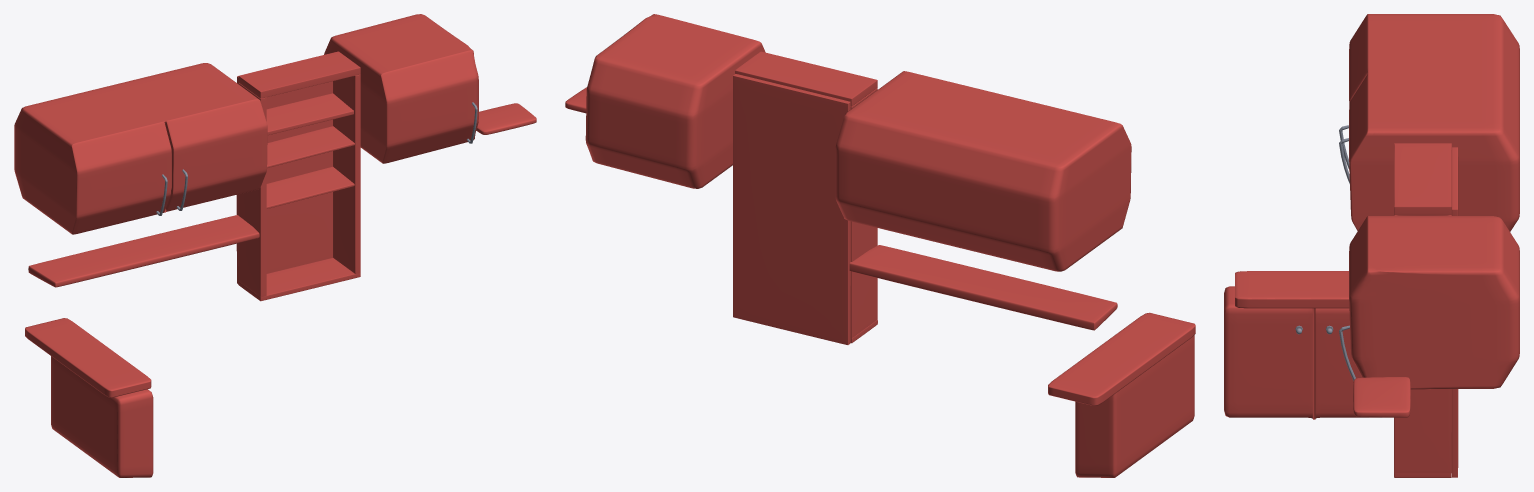
File: Shelves.fbx
3 views of the same model, side by side, from view 1: azimuth 30°, elevation 25°; view 2: azimuth 150°, elevation 25°; view 3: azimuth 270°, elevation 25° (orthographic). The views are drawn at different scales.
Visible parts, largest first — view 1: mebel_3, shelf_box, mebel_5, mebel_1, shelf_2, shelf; view 2: mebel_3, shelf_box, mebel_5, mebel_1, shelf_2; view 3: mebel_3, mebel_5, mebel_1, shelf_box, shelf.
Part boxes in pixels (box(x1,y1,x2,y2)): mebel_3: box(14, 63, 267, 234); shelf_box: box(236, 51, 360, 301); mebel_5: box(324, 14, 478, 163); mebel_1: box(25, 318, 153, 477); shelf_2: box(28, 215, 259, 287); shelf: box(476, 103, 536, 134); mebel_3: box(835, 71, 1131, 271); shelf_box: box(733, 51, 877, 344); mebel_5: box(585, 14, 765, 188); mebel_1: box(1048, 312, 1195, 477); shelf_2: box(849, 245, 1117, 330); mebel_3: box(1339, 14, 1519, 231); mebel_5: box(1339, 216, 1519, 389); mebel_1: box(1224, 271, 1381, 419); shelf_box: box(1394, 143, 1458, 477); shelf: box(1353, 377, 1410, 417).
Bounding box in the file's own units: 213 × 129 × 88.56.
